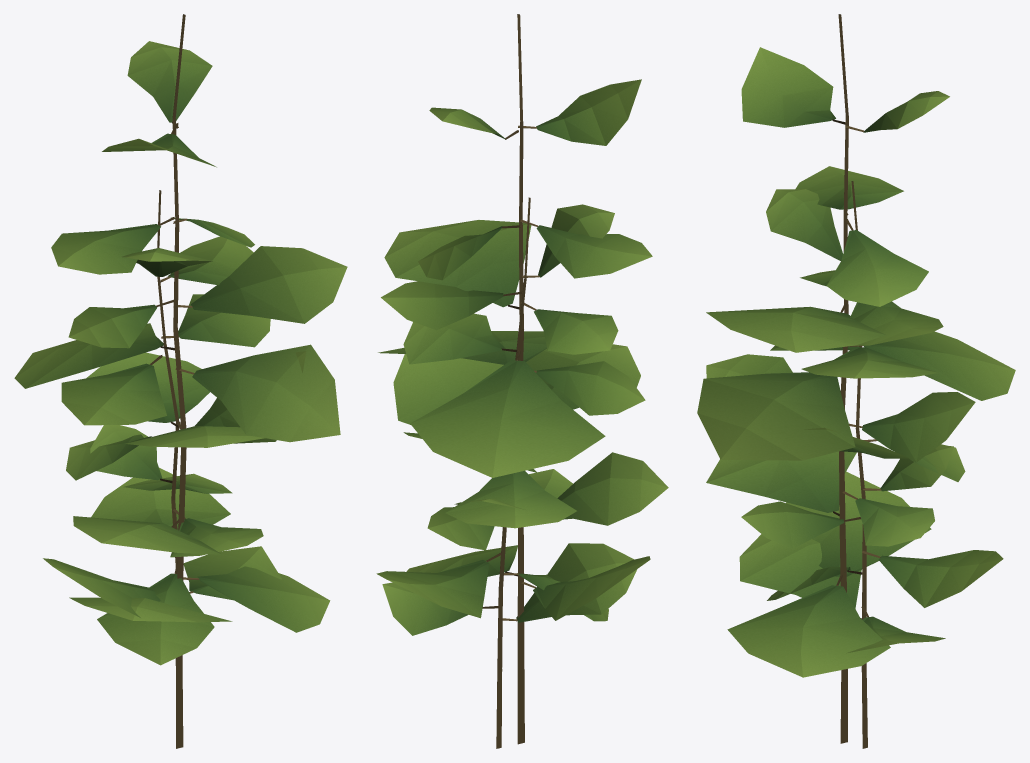
File: forest_shrub_001_e_LOD1.gltf
3 views of the same model, side by side, from view 1: azimuth 30°, elevation 25°; view 2: azimuth 150°, elevation 25°; view 3: azimuth 270°, elevation 25° (orthographic).
Parts seen in each view (by area): view 1: forest_shrub_001_e_LOD1; view 2: forest_shrub_001_e_LOD1; view 3: forest_shrub_001_e_LOD1.
Boxes of the visible parts, left/top/right/bottom form: forest_shrub_001_e_LOD1: left=14, top=14, right=347, bottom=748; forest_shrub_001_e_LOD1: left=376, top=14, right=668, bottom=748; forest_shrub_001_e_LOD1: left=697, top=14, right=1015, bottom=748.
Bounding box in the file's own units: 0.6305 × 1.61 × 0.6383.
Materials: 1 (1 with a texture image).
